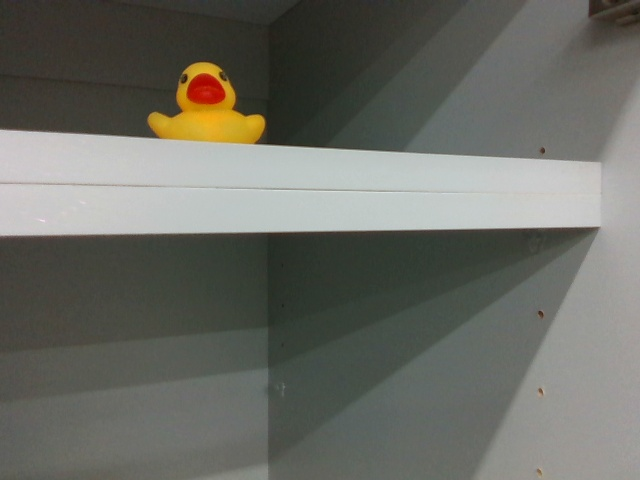duck: (146, 57, 267, 147)
